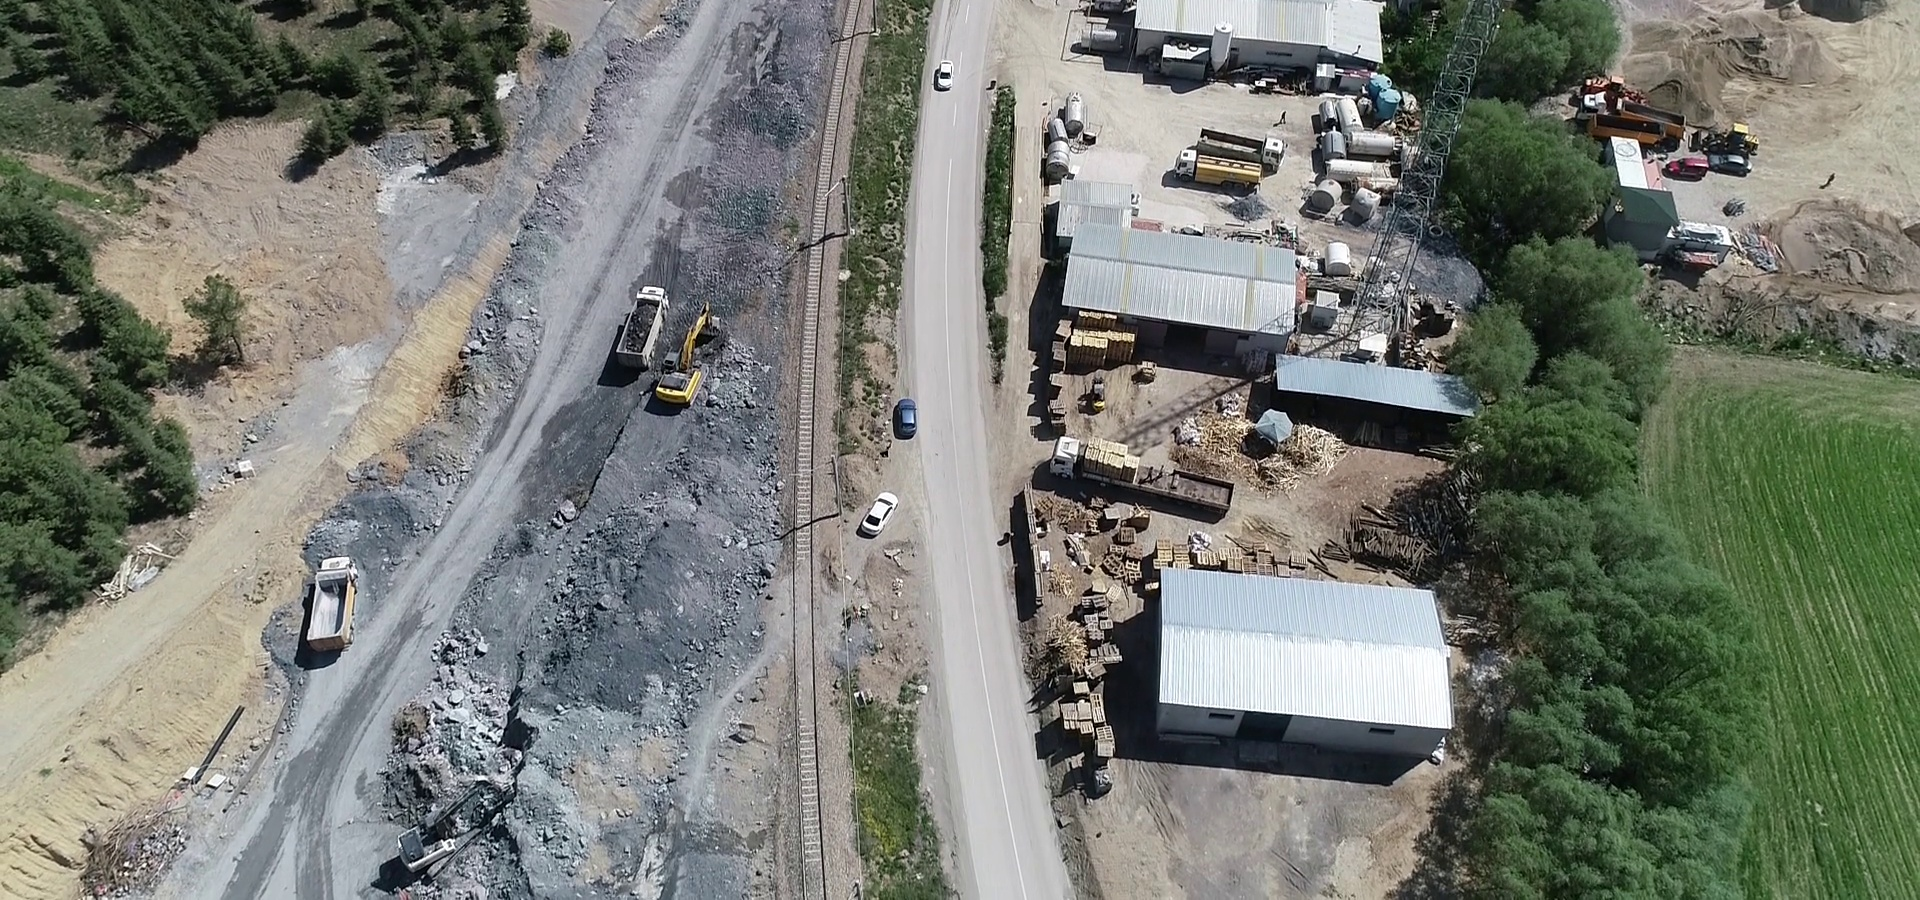arac: (1032, 429, 1251, 517), (383, 767, 520, 879), (294, 538, 378, 669), (647, 298, 733, 408), (609, 274, 673, 371), (1680, 115, 1791, 149), (1184, 122, 1282, 160), (1173, 153, 1271, 187), (857, 490, 905, 538), (1664, 153, 1727, 187), (883, 394, 924, 442), (1704, 147, 1758, 181), (928, 53, 964, 97)
